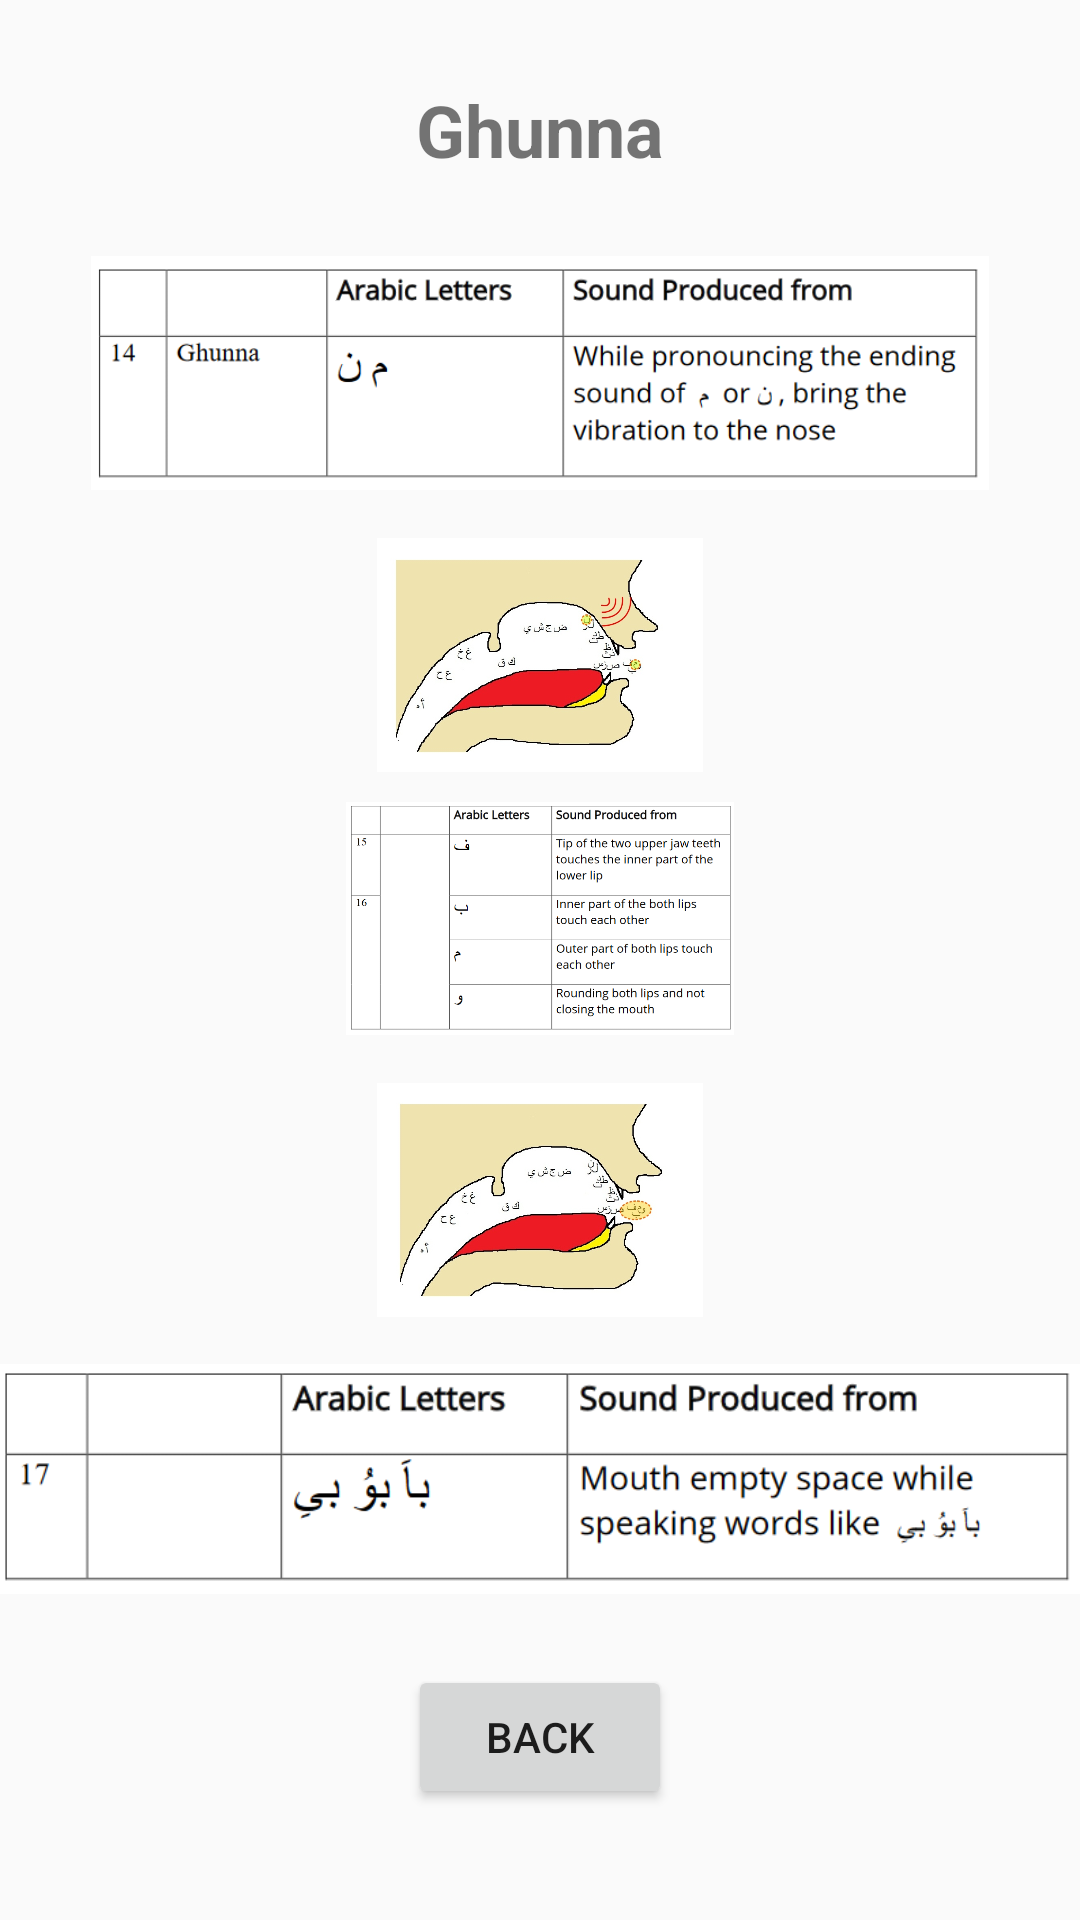

Point at icon controls on the screen. Image size 1080x1920, points as point (x, y).
ghunnaimage: point (527, 656), point (531, 1200)
